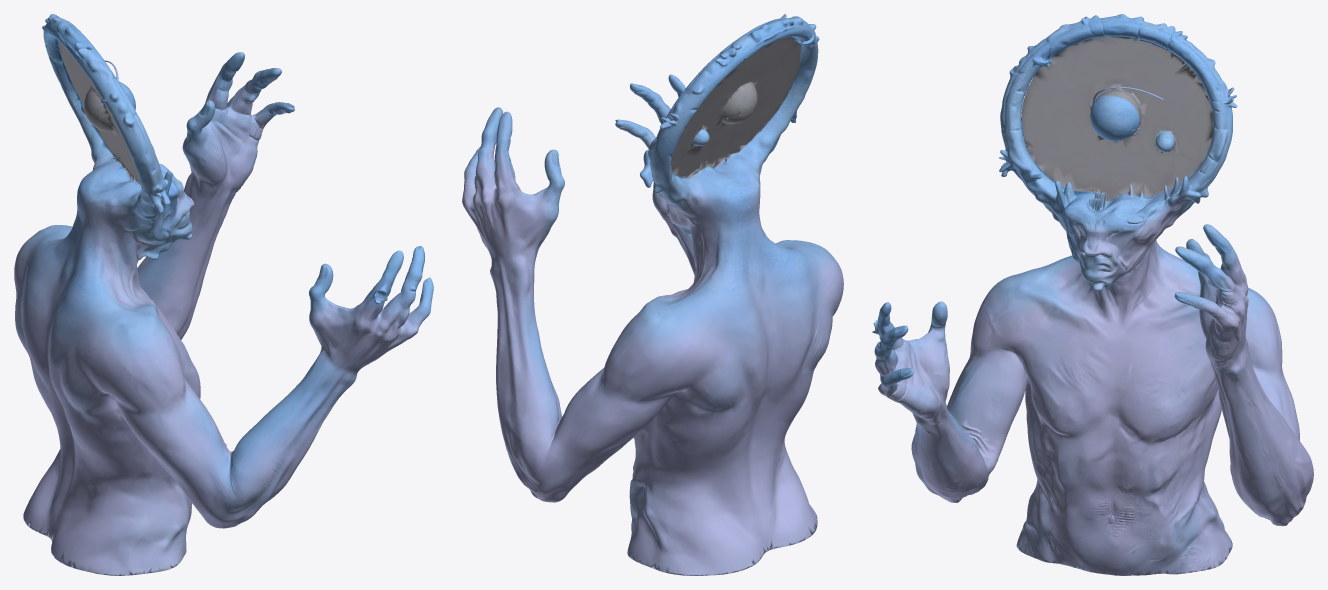
Rendered from hero-figure.glb.
The picture shows the model from 3 angles, left to right: view 1: azimuth 30°, elevation 25°; view 2: azimuth 150°, elevation 25°; view 3: azimuth 270°, elevation 25°; orthographic projection.
Parts seen in each view (by area): view 1: tripo_node_1a4d7dc9-39a5-45b5-abcc-15dd7f8c310b; view 2: tripo_node_1a4d7dc9-39a5-45b5-abcc-15dd7f8c310b; view 3: tripo_node_1a4d7dc9-39a5-45b5-abcc-15dd7f8c310b.
Boxes of the visible parts, x1,y1,x2,y2 form: tripo_node_1a4d7dc9-39a5-45b5-abcc-15dd7f8c310b: [14, 14, 433, 575]; tripo_node_1a4d7dc9-39a5-45b5-abcc-15dd7f8c310b: [462, 14, 843, 575]; tripo_node_1a4d7dc9-39a5-45b5-abcc-15dd7f8c310b: [872, 14, 1313, 575].
Size of the model in its own units: 0.5723 by 0.9803 by 0.7684.
Materials: 1 (1 with a texture image).
